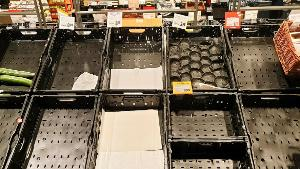cucumber: (0, 36, 46, 96)
